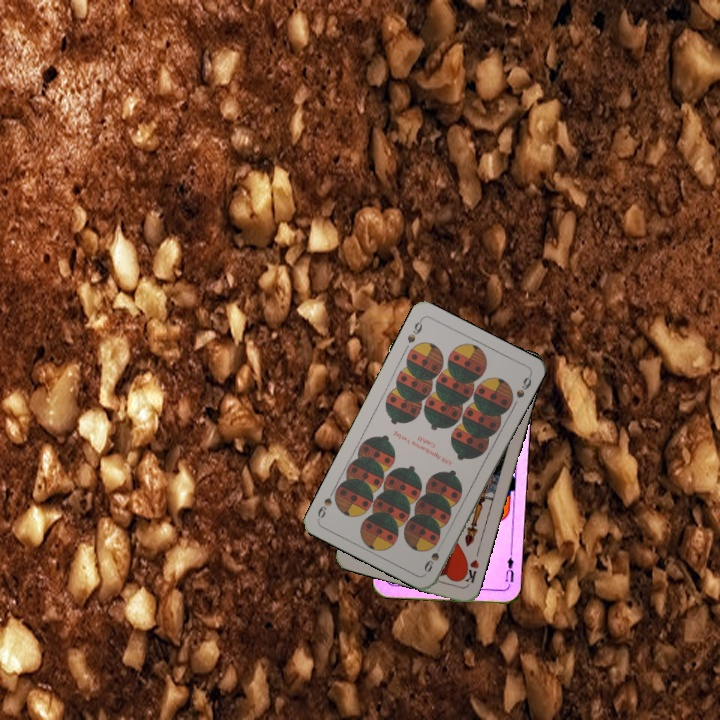EU: (502, 553, 517, 589)
HK: (457, 556, 481, 588)
S9: (403, 315, 425, 346), (420, 548, 442, 575)
